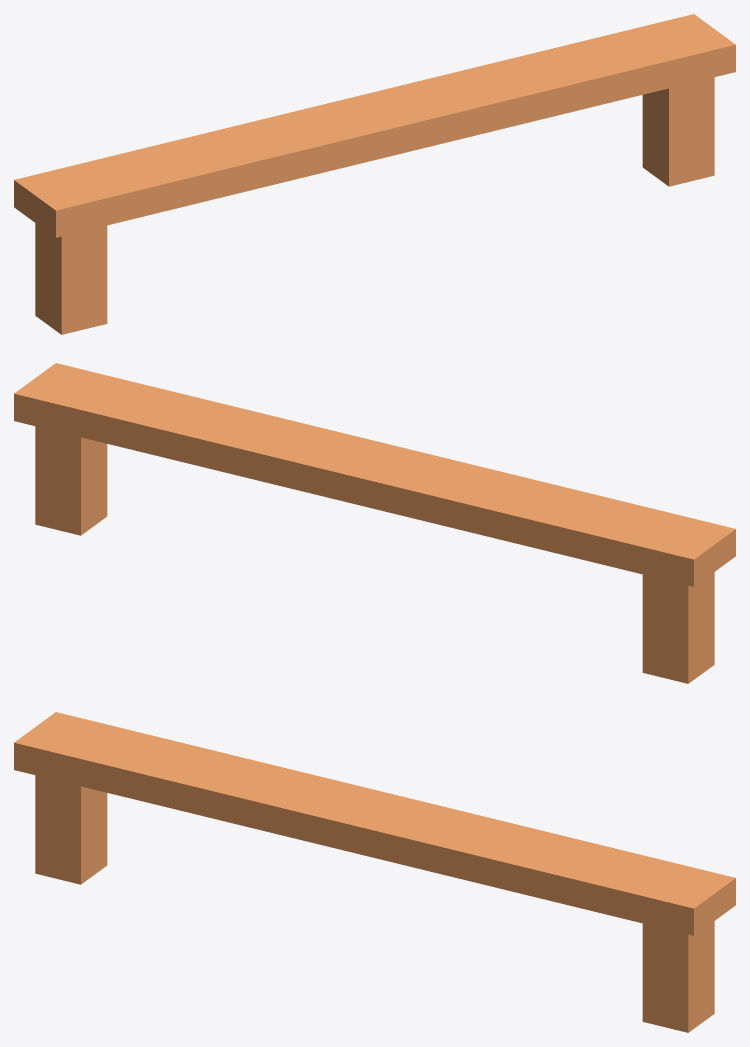
Rendered from fence_simpleLow.fbx.
3 views of the same model, one above another, from view 1: azimuth 30°, elevation 25°; view 2: azimuth 150°, elevation 25°; view 3: azimuth 330°, elevation 25° (orthographic).
Parts seen in each view (by area): view 1: fence_simpleLow; view 2: fence_simpleLow; view 3: fence_simpleLow.
Boxes of the visible parts, <box> form: fence_simpleLow: <box>14,14,735,334</box>; fence_simpleLow: <box>14,363,735,683</box>; fence_simpleLow: <box>14,712,735,1032</box>.
Size of the model in its own units: 10.41 by 1.95 by 1.11.
